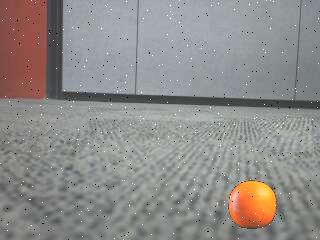Orange: (229, 180, 276, 228)
